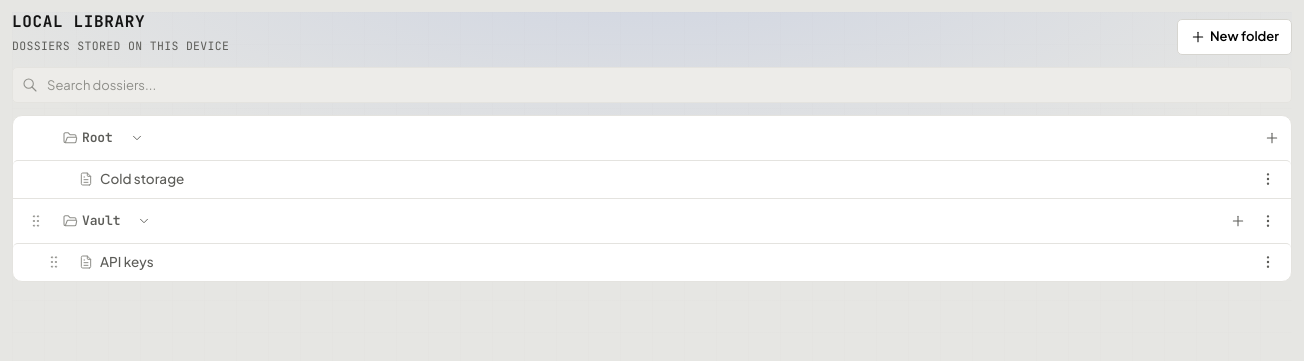
Test: LibraryPanel — container and contained › states the cascade in the delete entry of a folder that has one
The width and height of the screenshot is (1304, 361).
Click the button named "Actions for Vault" at [1268, 221], box [1255,204,1281,238]
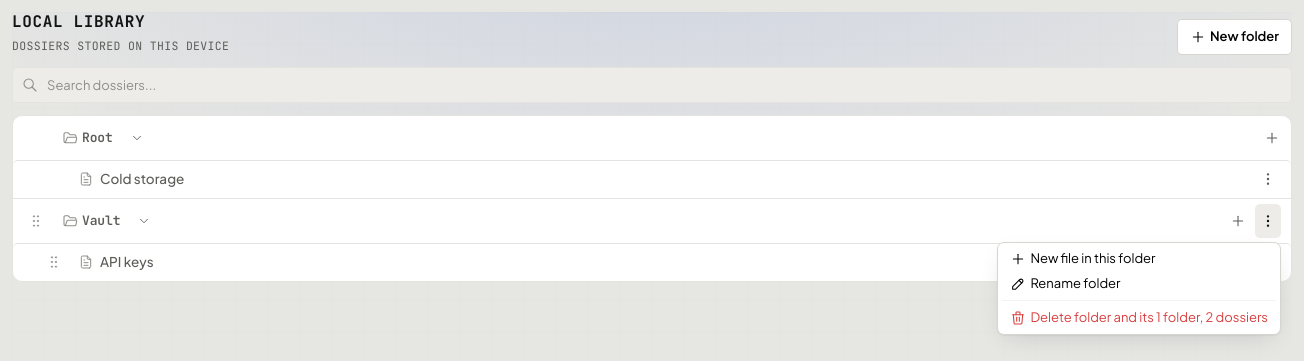
Expected: the menu item "Delete folder and its 1 folder, 2 dossiers" is shown, [1002,305,1276,330]
